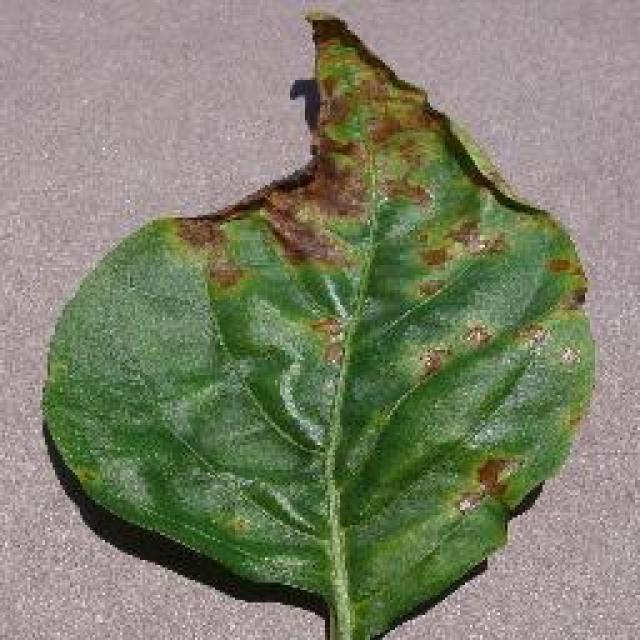Chilli_Bacterial_Spot: (38, 8, 600, 638), (410, 212, 508, 272), (450, 452, 520, 518), (305, 310, 350, 370), (300, 5, 352, 47), (470, 452, 512, 500), (445, 215, 490, 257), (360, 112, 402, 150), (203, 255, 245, 293), (412, 342, 450, 380), (512, 320, 552, 352), (305, 310, 345, 342), (407, 272, 445, 302), (450, 488, 485, 520), (458, 320, 492, 350), (540, 252, 578, 278), (552, 340, 582, 370)
